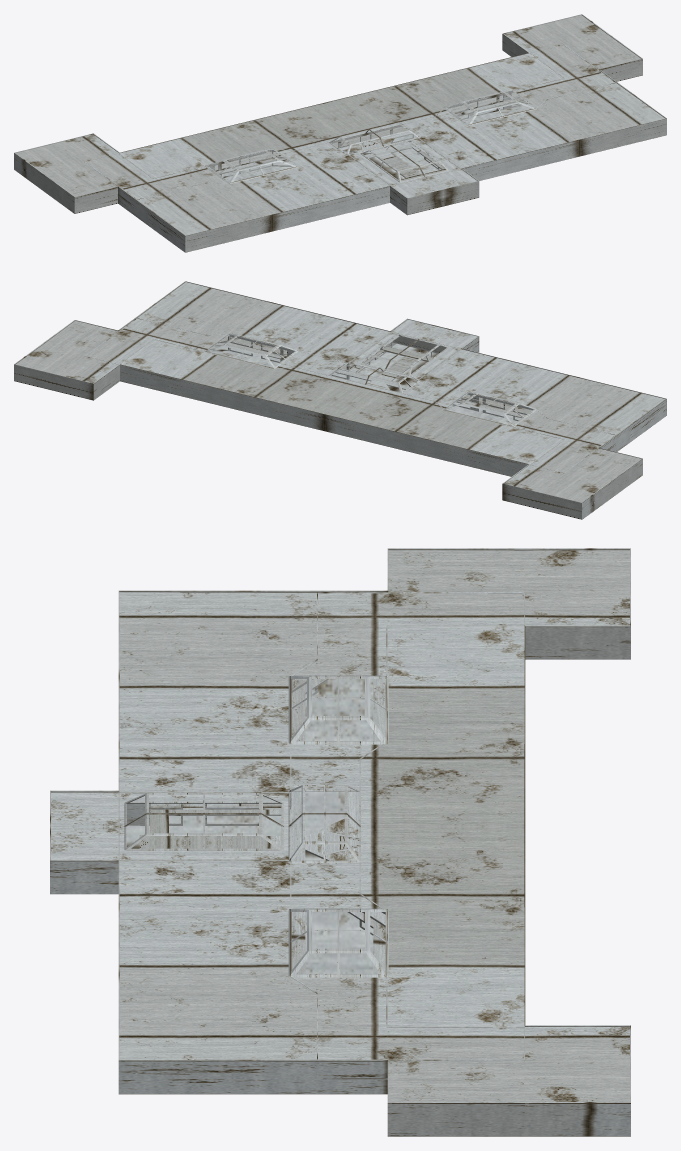
File: mall.obj
3 renders of one model, top to bottom at view 1: azimuth 30°, elevation 25°; view 2: azimuth 150°, elevation 25°; view 3: azimuth 270°, elevation 25°, orthographic. The views are drawn at different scales.
Visible parts, largest first — view 1: Plane.000_Floor,_Ext._Walls; view 2: Plane.000_Floor,_Ext._Walls; view 3: Plane.000_Floor,_Ext._Walls.
Boxes of the visible parts, bbox=[...] form: Plane.000_Floor,_Ext._Walls: bbox=[14, 14, 666, 252]; Plane.000_Floor,_Ext._Walls: bbox=[14, 281, 666, 519]; Plane.000_Floor,_Ext._Walls: bbox=[50, 548, 630, 1136].
Size of the model in its own units: 1075 by 41.09 by 476.
